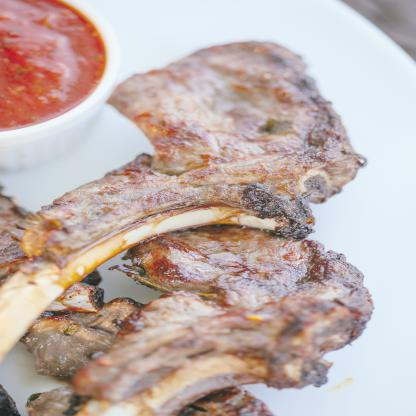Carne: (7, 38, 366, 205), (104, 238, 377, 358)
